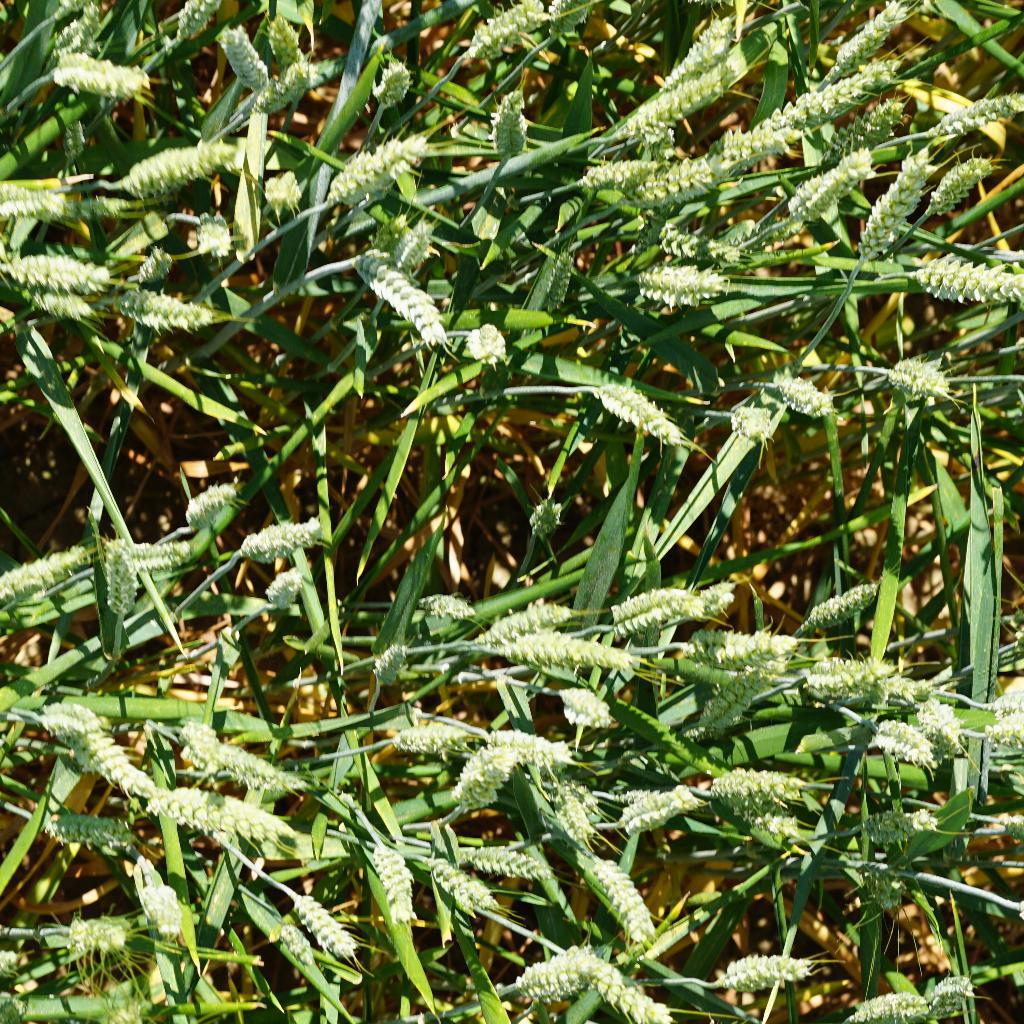0-0: (137, 773, 296, 851), (342, 245, 455, 350), (172, 720, 310, 802), (605, 58, 740, 135), (853, 145, 938, 267), (752, 64, 894, 137), (571, 366, 688, 452), (575, 844, 672, 945), (583, 574, 722, 641), (683, 747, 819, 815), (489, 624, 643, 683), (777, 144, 874, 236), (643, 11, 745, 96), (93, 124, 230, 187), (888, 247, 1024, 308), (325, 137, 443, 205), (812, 93, 910, 172), (0, 541, 108, 612), (44, 41, 163, 105), (575, 950, 675, 1024), (606, 783, 724, 845), (275, 882, 365, 959), (224, 506, 330, 571), (441, 0, 545, 66), (615, 148, 727, 209), (897, 679, 976, 765), (822, 0, 911, 75), (710, 946, 829, 1001), (694, 664, 789, 732), (66, 728, 149, 804), (622, 259, 734, 314), (641, 218, 746, 275), (367, 836, 434, 925), (851, 844, 929, 920), (36, 798, 134, 858), (474, 82, 546, 163), (916, 90, 1024, 144), (692, 621, 806, 672), (791, 642, 892, 699), (127, 870, 202, 946), (0, 234, 105, 288), (477, 721, 594, 769), (0, 275, 90, 336), (474, 587, 585, 636), (118, 287, 228, 336), (160, 0, 261, 52), (443, 748, 526, 811), (718, 126, 800, 189), (877, 355, 966, 413), (426, 851, 501, 919), (851, 792, 935, 852), (799, 571, 884, 630), (926, 154, 997, 224), (244, 48, 315, 118), (209, 21, 271, 101), (118, 232, 194, 296), (526, 240, 594, 310), (514, 946, 594, 1005), (455, 313, 523, 382), (448, 840, 549, 885), (358, 47, 422, 116), (161, 200, 232, 262), (545, 776, 609, 844), (58, 910, 135, 966), (763, 368, 839, 424), (107, 528, 197, 575), (860, 709, 930, 769), (840, 978, 931, 1024), (727, 789, 804, 843), (914, 967, 985, 1024), (543, 680, 619, 733), (158, 715, 225, 775), (100, 534, 145, 623), (387, 710, 473, 754), (0, 172, 74, 221), (572, 144, 657, 186), (256, 0, 307, 68), (358, 638, 419, 694), (33, 691, 97, 744), (48, 0, 112, 53), (389, 215, 447, 272), (179, 476, 239, 531), (252, 564, 311, 616), (260, 159, 305, 219), (608, 783, 685, 818), (521, 487, 567, 545), (718, 402, 773, 448), (412, 584, 476, 623), (548, 0, 623, 30), (280, 47, 316, 107), (967, 684, 1024, 721), (978, 717, 1024, 758), (52, 0, 150, 17), (60, 119, 88, 167), (0, 938, 25, 991), (0, 1004, 60, 1024), (100, 1005, 163, 1024)
